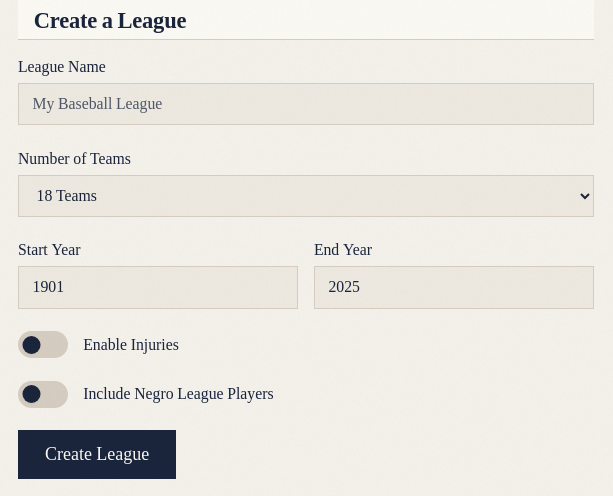
Test: LeagueConfigPage › shows progress indicator while creating league
The width and height of the screenshot is (613, 496).
Step 1. Type "Test League" into the field labelled "League Name" → (306, 104), box [18, 83, 594, 125]
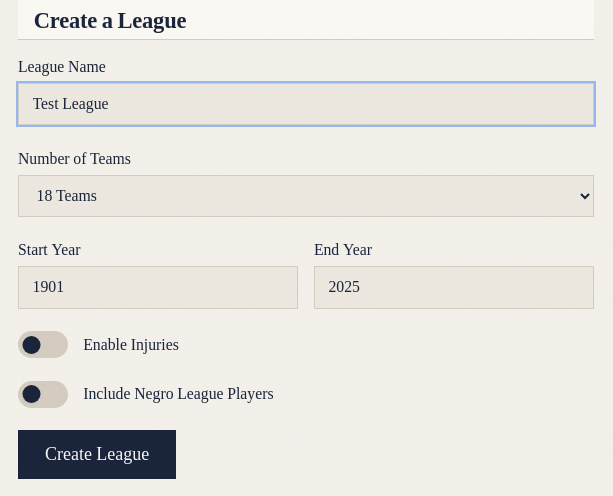
Step 2. Click the button "Create League" → click(97, 455), box [18, 430, 176, 479]
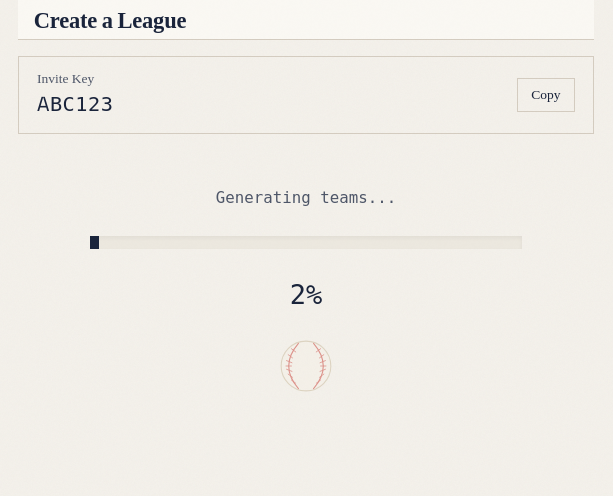
expect the message "Generating teams... 2%" is shown: met, box [90, 185, 522, 393]
expect the progress indicator is shown: met, box [90, 236, 99, 249]
expect the text "Generating teams..." is shown: met, box [216, 185, 396, 209]
